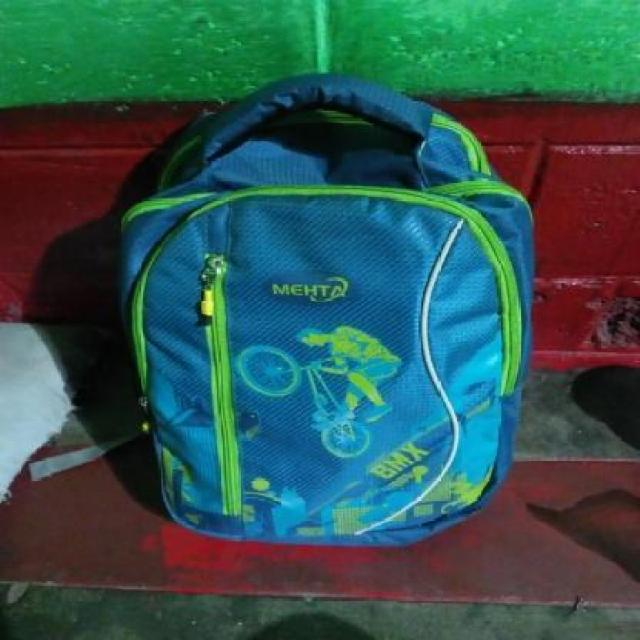backpack: (104, 64, 542, 556)
